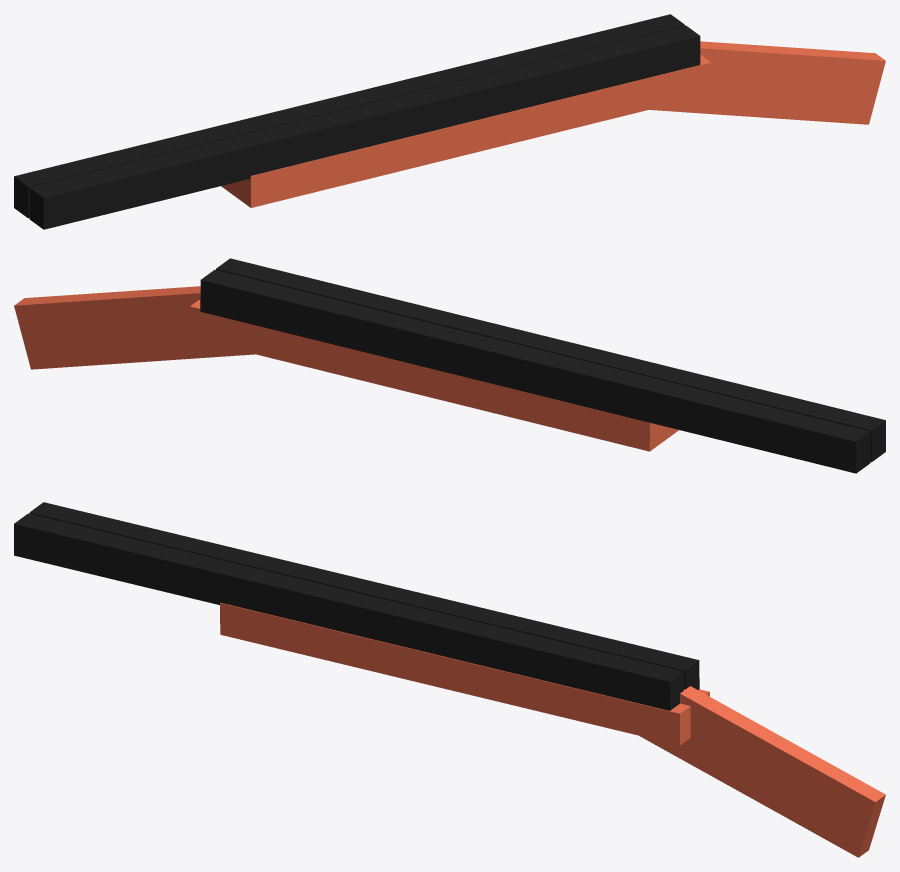
File: shotgun.FBX
3 renders of one model, top to bottom at view 1: azimuth 30°, elevation 25°; view 2: azimuth 150°, elevation 25°; view 3: azimuth 330°, elevation 25°, orthographic.
Visible parts, largest first — view 1: Box007, Box005, Box008, Box006; view 2: Box006, Box005, Box008, Box007; view 3: Box007, Box005, Box008, Box006.
Boxes of the visible parts, x1,y1,x2,y2 form: Box007: (29,25,700,229); Box005: (221,55,711,207); Box008: (627,39,885,124); Box006: (14,14,684,218); Box006: (200,269,870,473); Box005: (189,300,678,451); Box008: (14,286,254,369); Box007: (216,258,885,462); Box007: (14,513,683,710); Box005: (220,602,709,745); Box008: (639,686,885,857); Box006: (29,502,699,689).
Bounding box in the file's own units: 20.48 × 3.21 × 1.25.
